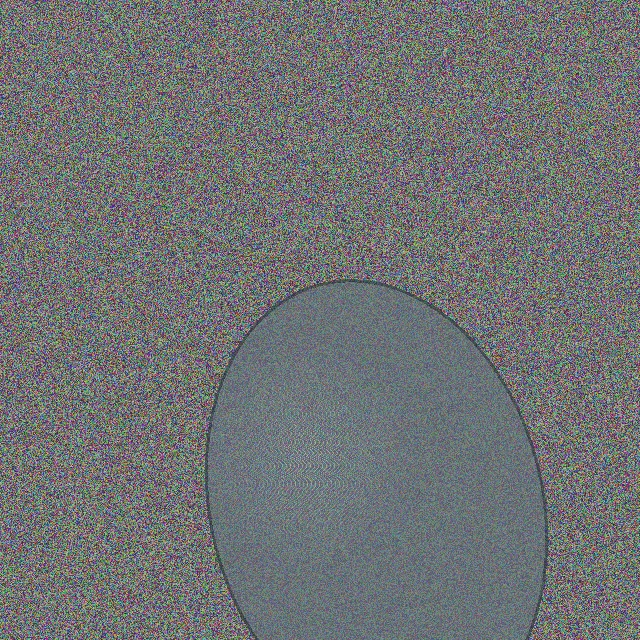lens: (206, 281, 546, 640)
